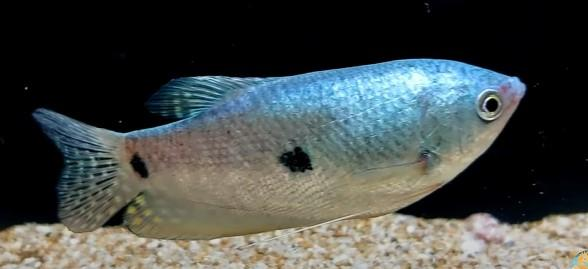Gourami: (6, 51, 531, 253)
